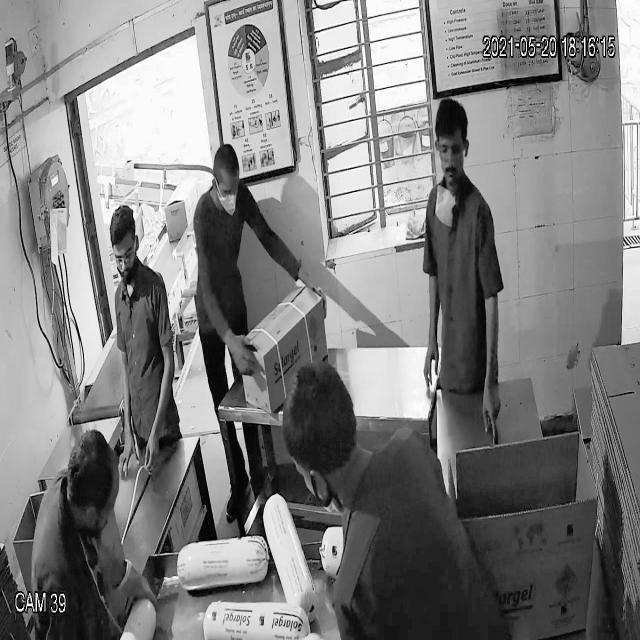glasses: (434, 132, 474, 167), (105, 243, 141, 271)
